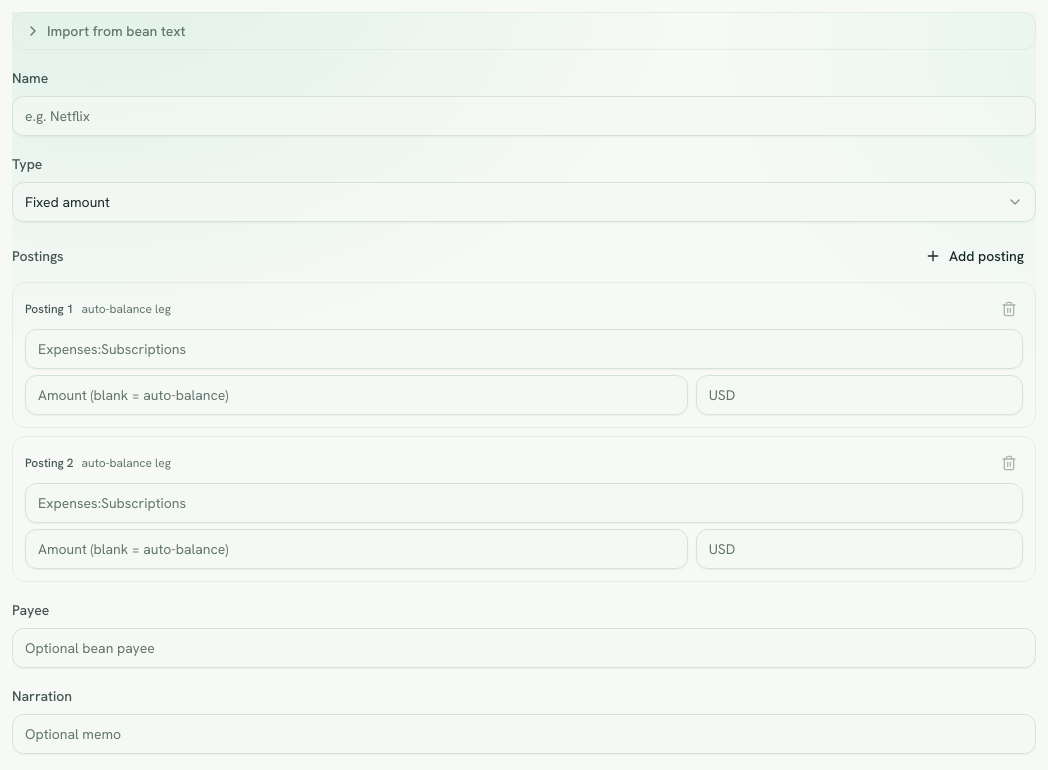
import shows a friendly message when parsing fails
The width and height of the screenshot is (1048, 770).
Click the button "Import from bean text" at (116, 31), box [13,13,1035,49]
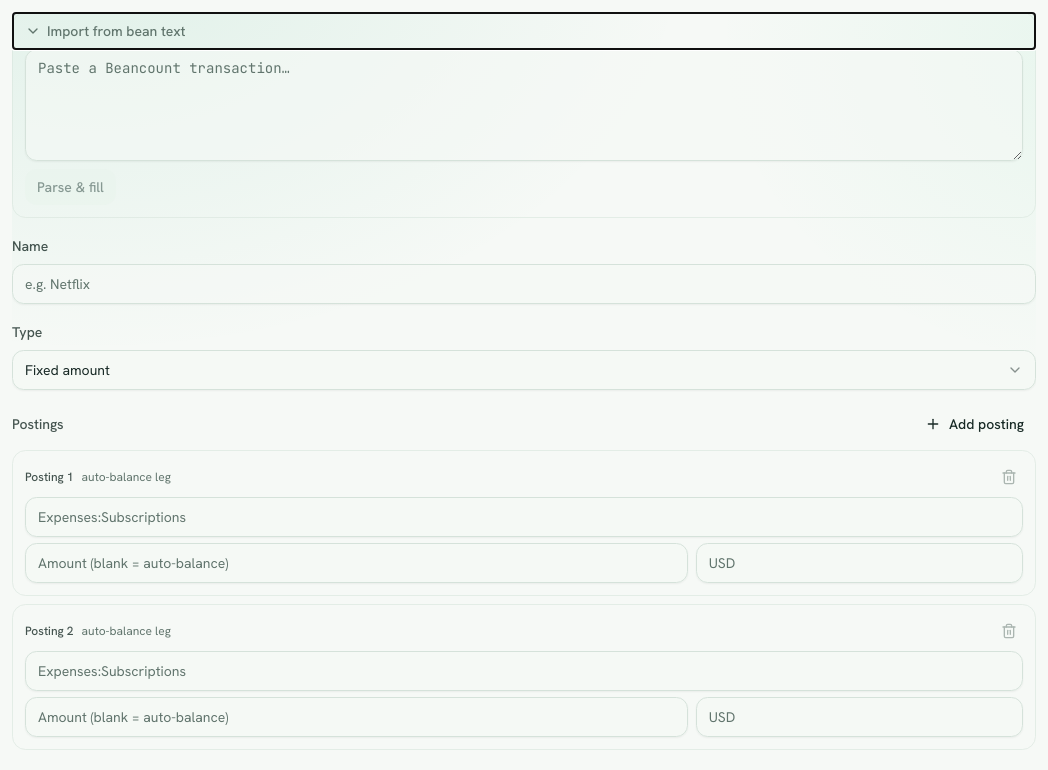
Type "x" into the text box named "bean text" at (524, 105), box [25,49,1023,161]
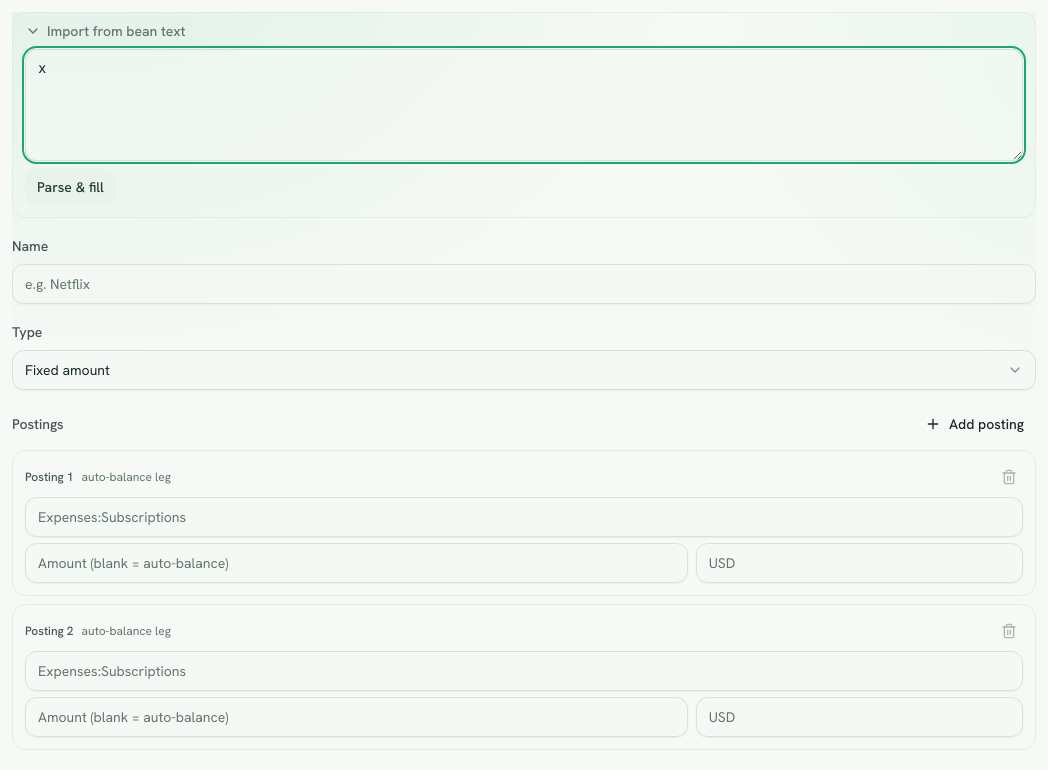
Click the button "Parse & fill" at (70, 187), box [25,169,116,205]
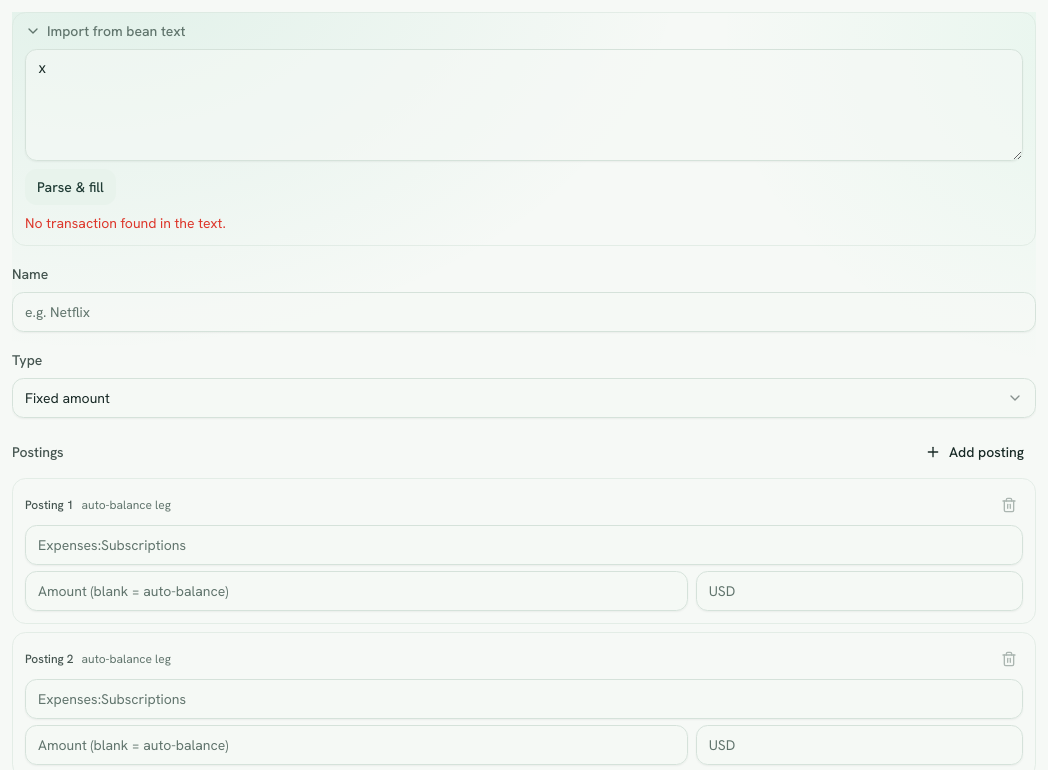
expect the field labelled "Name" is empty: met, box [12,292,1036,332]
expect the text "No transaction found in the text." is shown: met, box [25,214,226,232]
